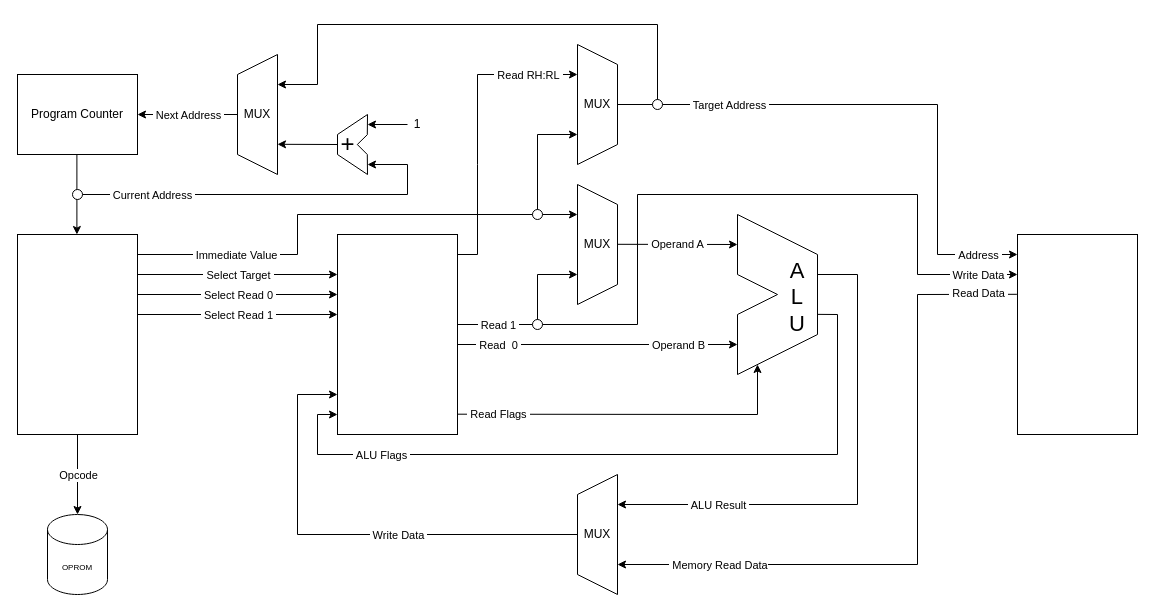
Some shapes in this 1155 by 612 pixel diagram are drawn without their labels. The centre of each missing label's shape, as x and y in pixels:
"Main Memory" belongs at (1077,334).
"Program Memory" belongs at (77,334).
"Register File" belongs at (397,334).
